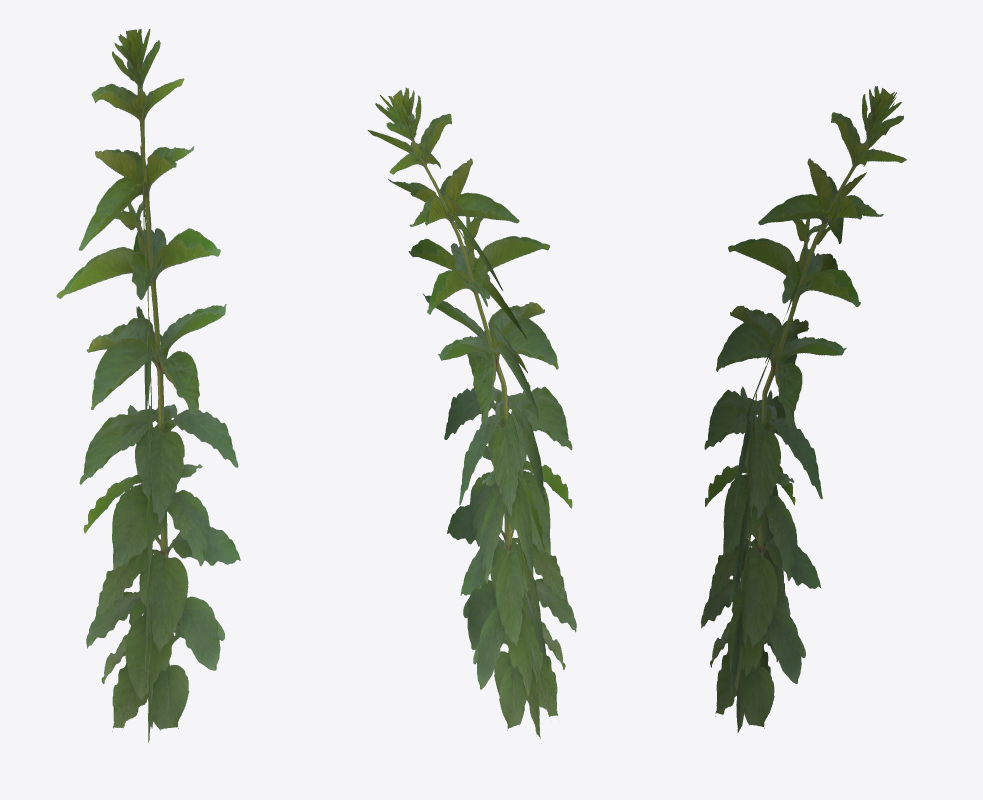
Rendered from StalkPlant_B.fbx.
3 views of the same model, side by side, from view 1: azimuth 30°, elevation 25°; view 2: azimuth 150°, elevation 25°; view 3: azimuth 270°, elevation 25° (orthographic). The views are drawn at different scales.
Parts seen in each view (by area): view 1: StalkPlant_B_LOD0; view 2: StalkPlant_B_LOD0; view 3: StalkPlant_B_LOD0.
Boxes of the visible parts, left/top/right/bottom form: StalkPlant_B_LOD0: left=56, top=29, right=240, bottom=742; StalkPlant_B_LOD0: left=367, top=87, right=576, bottom=743; StalkPlant_B_LOD0: left=701, top=86, right=906, bottom=732.
Size of what is drawn, in the model's own units: 40.53 by 116 by 44.82.
